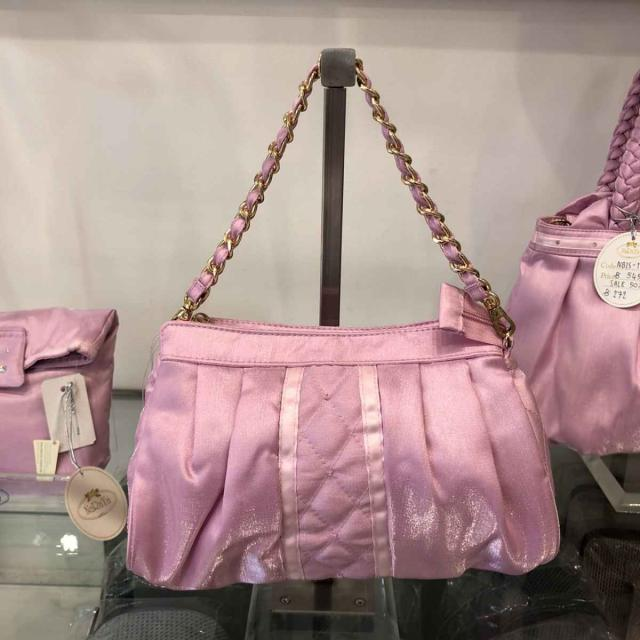Handbag: (103, 282, 553, 597)
